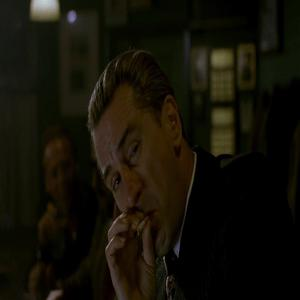cigarette: (134, 216, 151, 233)
